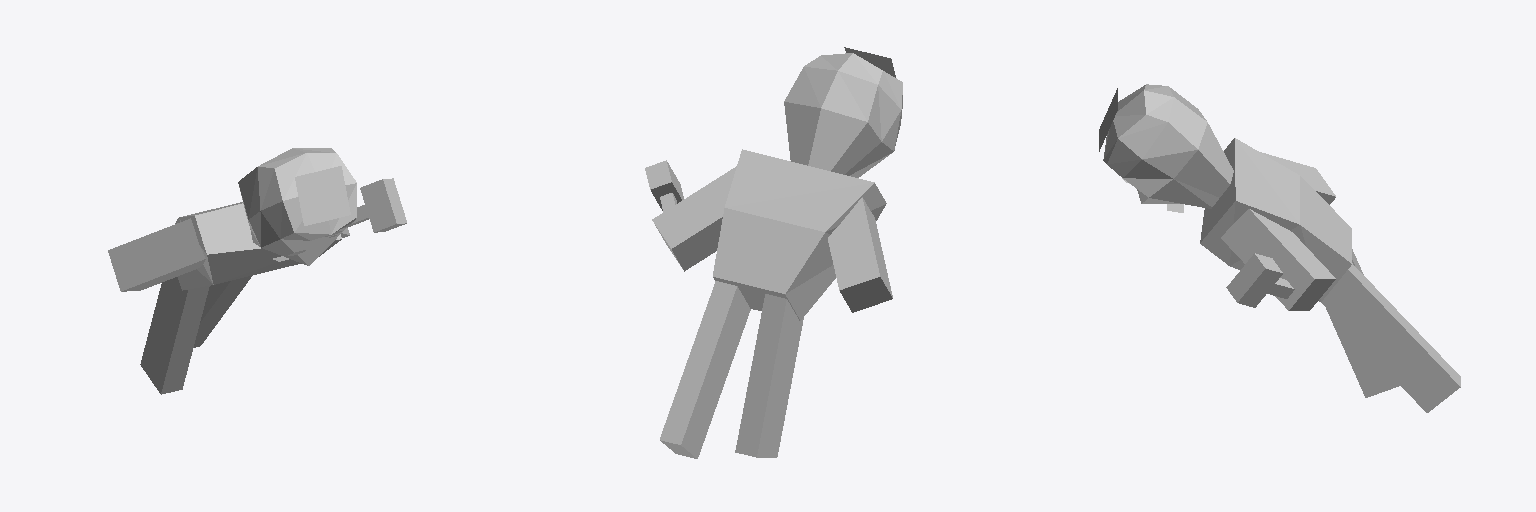
File: servant2d.obj
3 renders of one model, left to right at view 1: azimuth 30°, elevation 25°; view 2: azimuth 150°, elevation 25°; view 3: azimuth 270°, elevation 25°, orthographic.
Parts seen in each view (by area): view 1: Cube, Cube.001, Cube.004, Cube.003, Plane.002, Cube.008, Cube.005; view 2: Cube.001, Cube, Cube.005, Cube.004, Cube.003, Cube.002, Cube.008; view 3: Cube, Cube.001, Cube.005, Cube.002, Cube.004, Cube.008, Cube.003.
Boxes of the visible parts, box(x1,y1,x2,y2) form: Cube: box(238, 148, 356, 265); Cube.001: box(175, 202, 341, 290); Cube.004: box(140, 277, 209, 394); Cube.003: box(108, 218, 205, 291); Plane.002: box(295, 166, 350, 225); Cube.008: box(360, 178, 406, 232); Cube.005: box(194, 276, 251, 347); Cube.001: box(713, 149, 886, 320); Cube: box(784, 53, 902, 177); Cube.005: box(660, 281, 750, 458); Cube.004: box(735, 294, 803, 457); Cube.003: box(828, 197, 892, 312); Cube.002: box(652, 166, 736, 271); Cube.008: box(645, 160, 683, 210); Cube: box(1103, 84, 1233, 208); Cube.001: box(1200, 138, 1351, 301); Cube.005: box(1321, 263, 1460, 412); Cube.002: box(1221, 209, 1335, 310); Cube.004: box(1326, 249, 1399, 397); Cube.008: box(1226, 253, 1282, 307); Cube.003: box(1260, 152, 1335, 204).
Size of the model in its own units: 4.16 by 4.8 by 5.